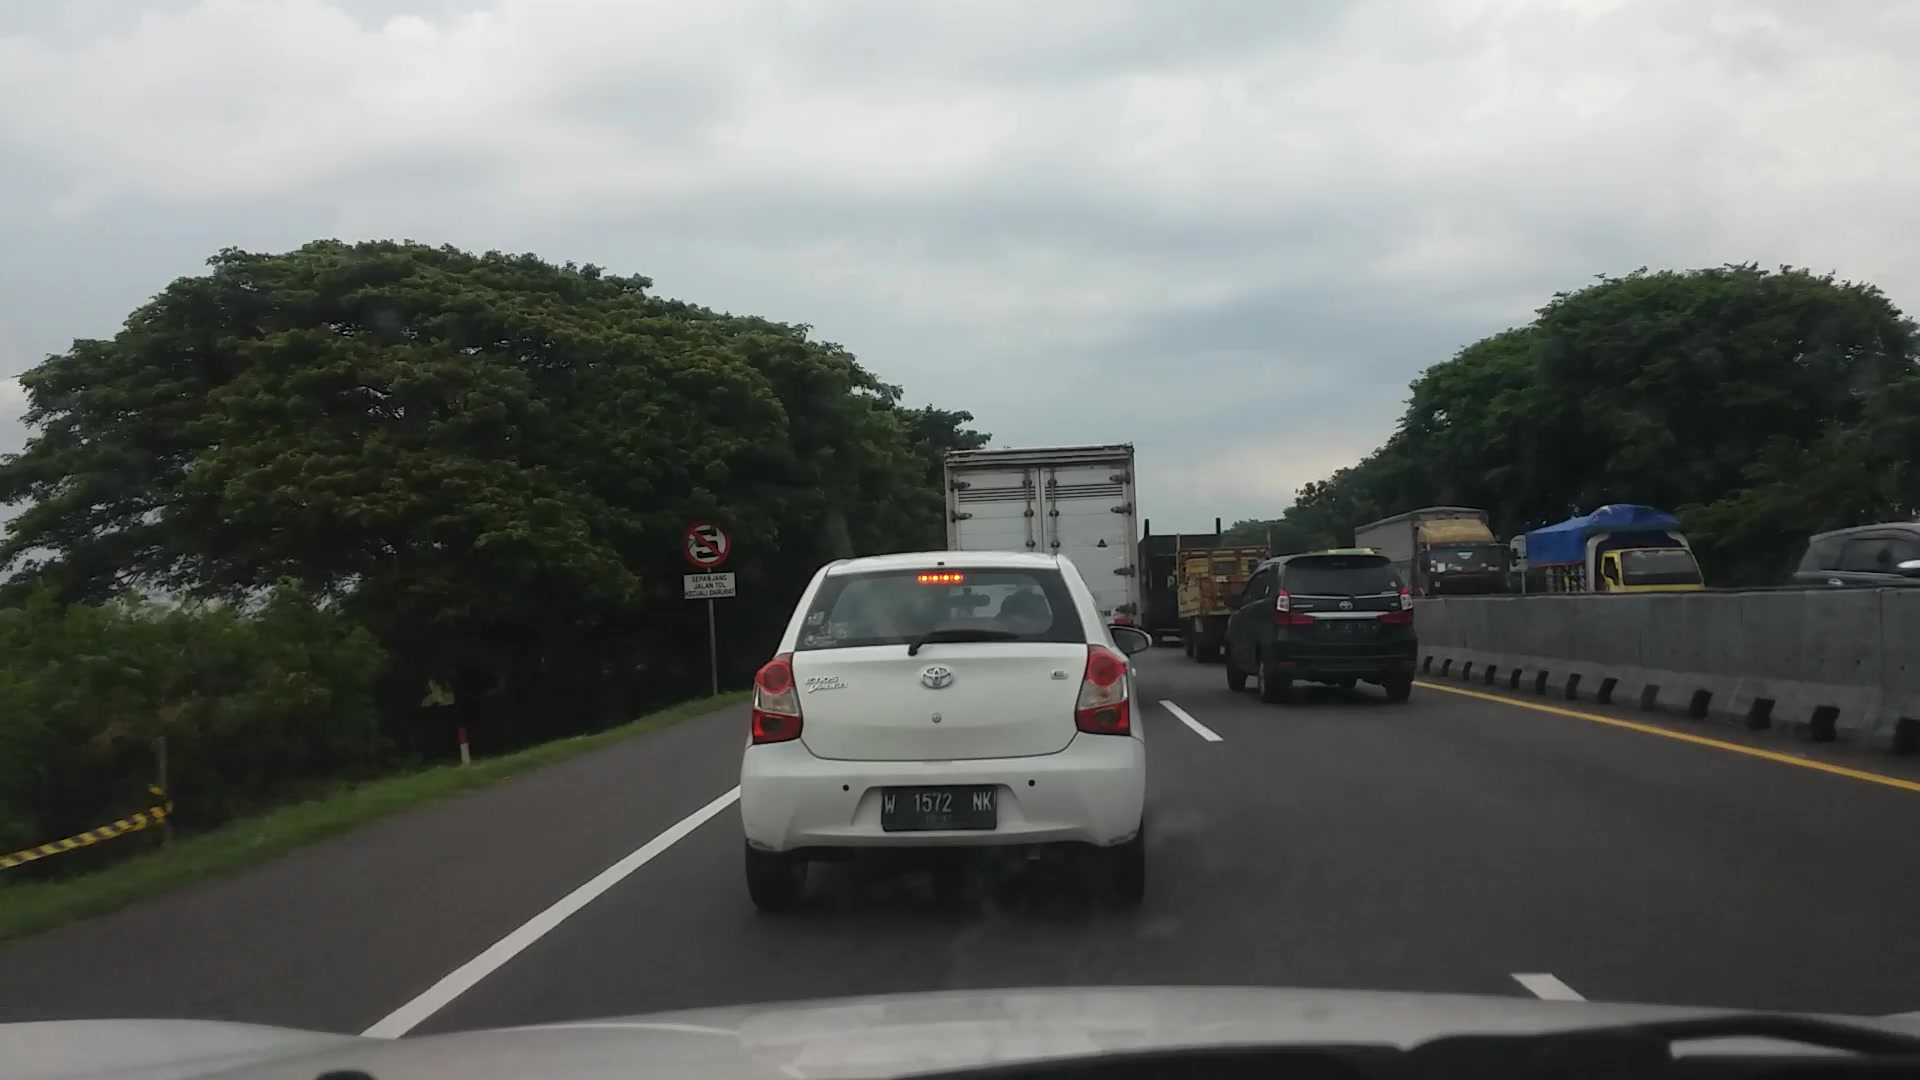plate_positive: (882, 785, 994, 831)
